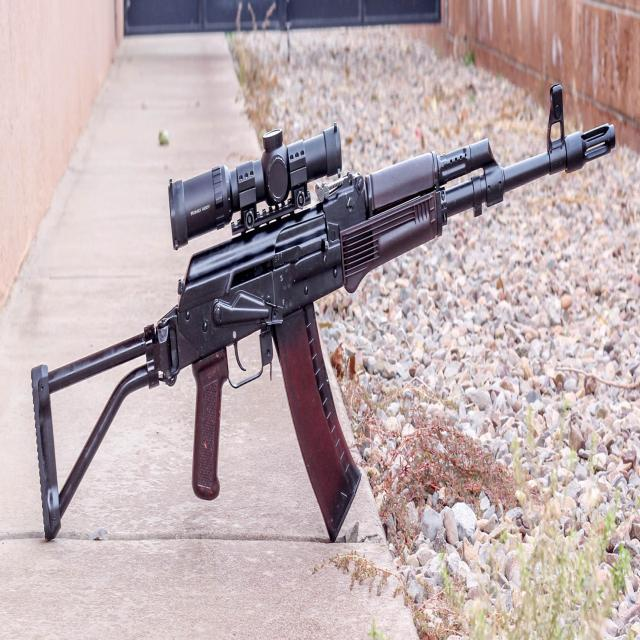weapon: (31, 80, 616, 542)
